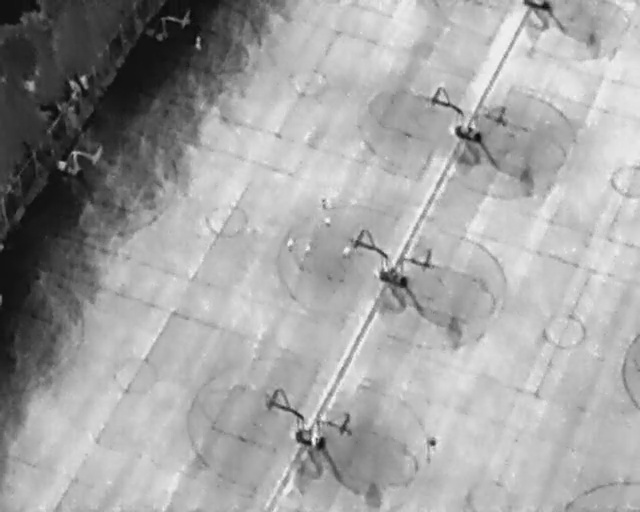Person: (341, 244, 352, 262), (322, 213, 331, 229), (286, 236, 293, 252)
